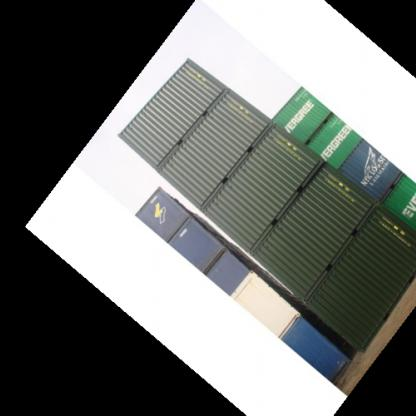Damage: (256, 231, 280, 255), (306, 278, 330, 300)
